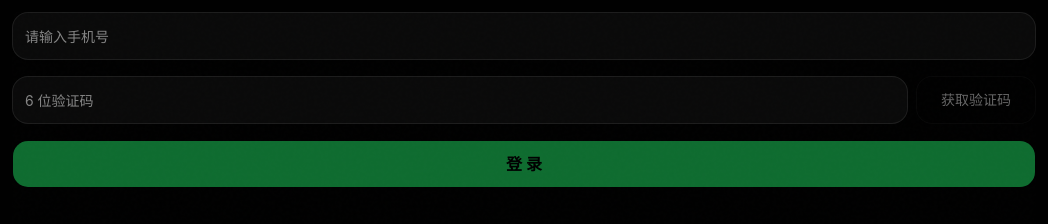
Scenario: PhoneLoginForm › captcha validation › shows error when captcha is not 6 digits after blur
The image size is (1048, 224).
In the field with placeholder "6 位验证码": coordinates (460, 100) top-left (12, 76), bottom-right (908, 124), type "123"
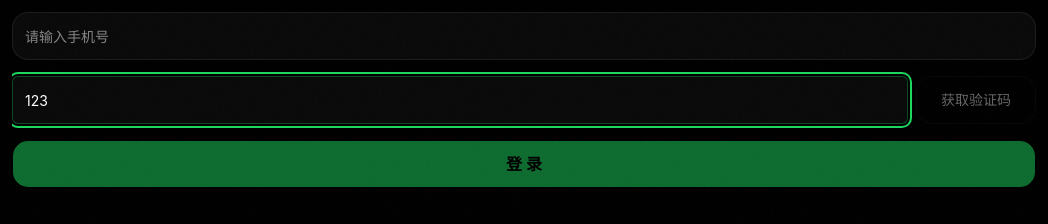
Press Tab
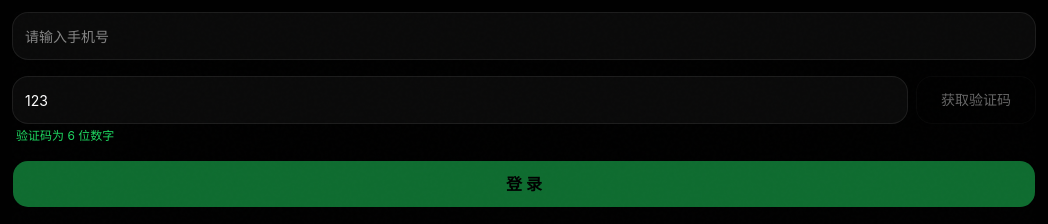
expect the text "验证码为 6 位数字" is shown: met, box top-left (16, 128), bottom-right (114, 143)
